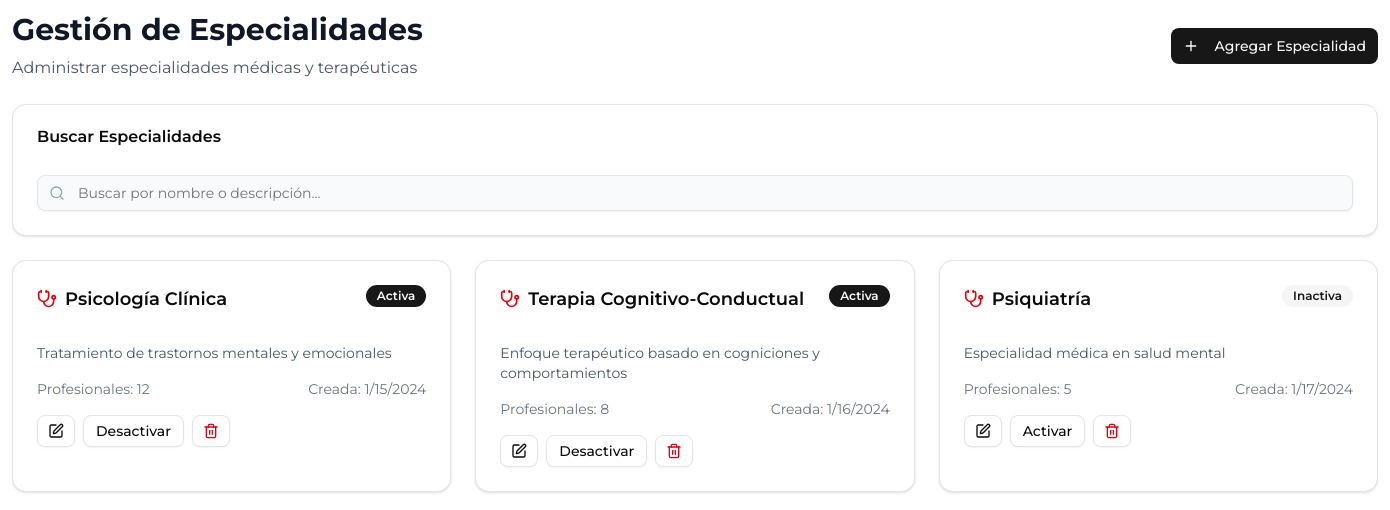
Test: AdminSpecialties › should filter specialties by search term
expect the text "Psicología Clínica" is shown: met, box x1=65 y1=285 x2=227 y2=313
Type "Psicología" into the field with placeholder "Buscar por nombre o descripción..." at (695, 193), box x1=37 y1=175 x2=1353 y2=211
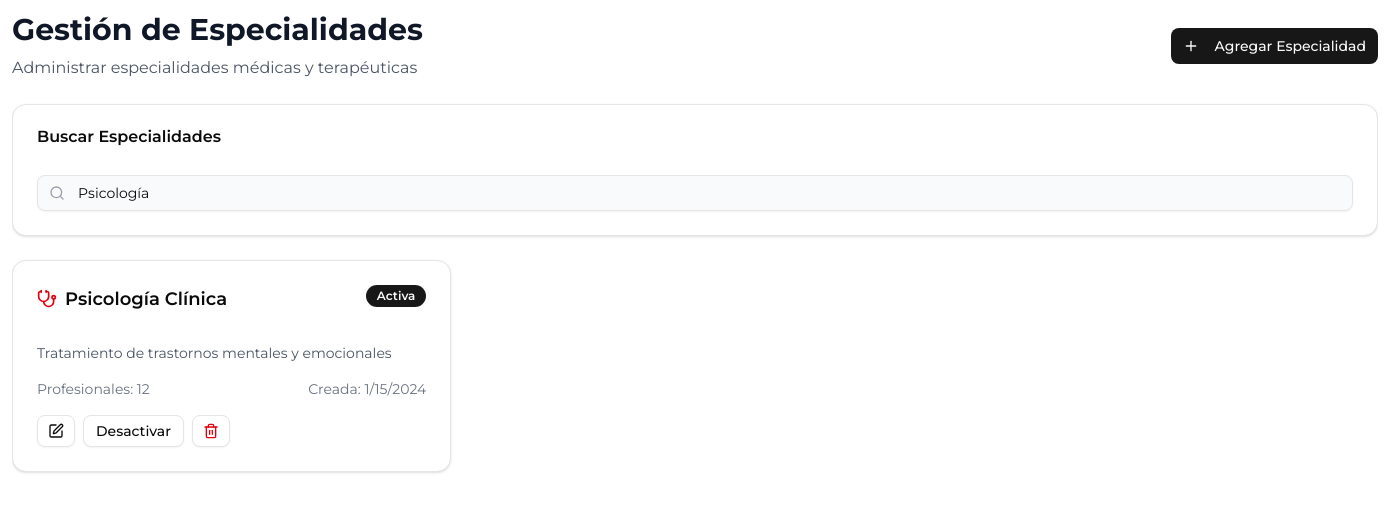
expect the text "Psicología Clínica" is shown: met, box x1=65 y1=285 x2=227 y2=313
expect the text "Psiquiatría" is gone: met
